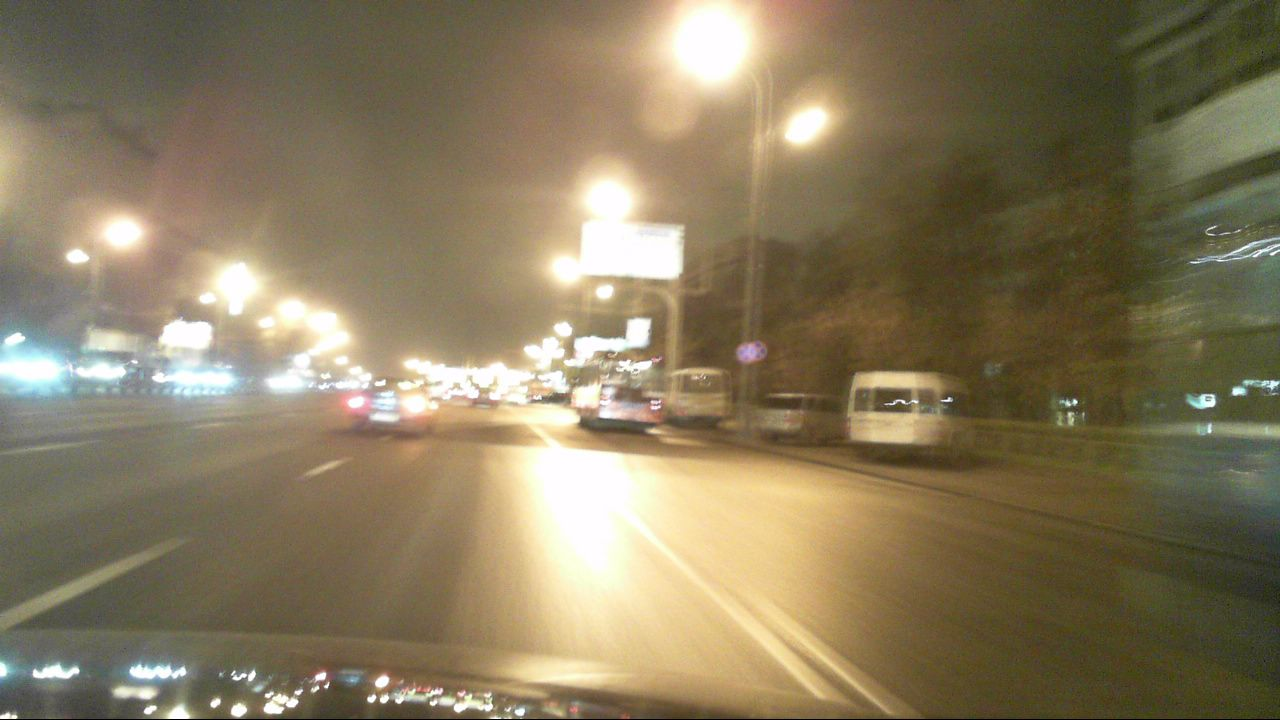No Parking: (737, 341, 758, 364)
